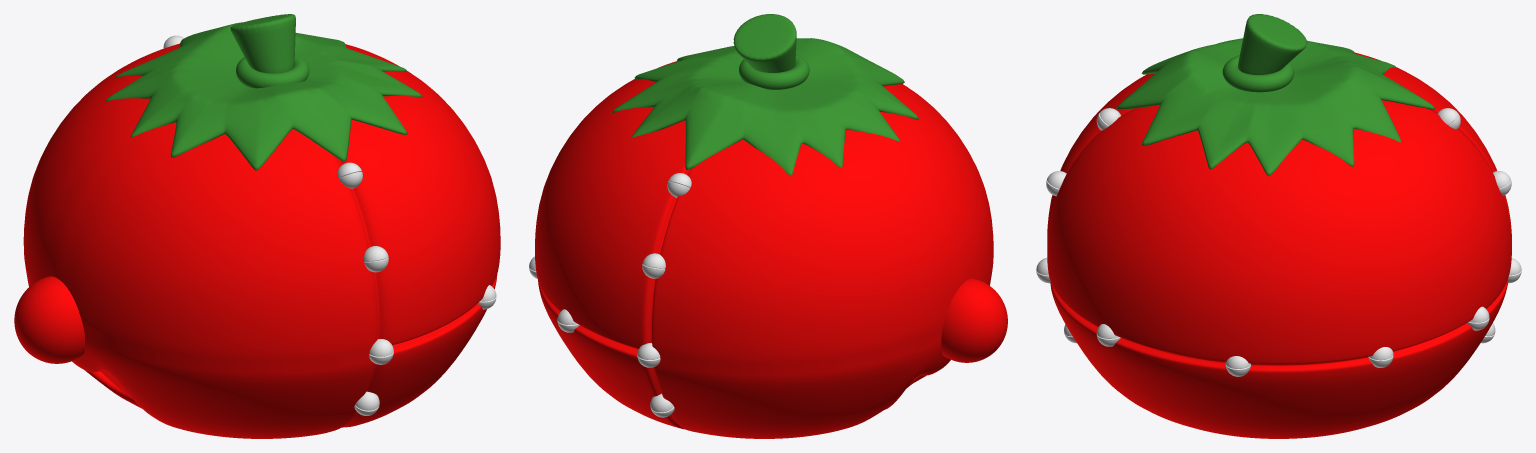
The model's file is mysterypoints.gltf.
3 views of the same model, side by side, from view 1: azimuth 30°, elevation 25°; view 2: azimuth 150°, elevation 25°; view 3: azimuth 270°, elevation 25° (orthographic). The views are drawn at different scales.
Visible parts, largest first — view 1: Circle_012; view 2: Circle_012; view 3: Circle_012.
Boxes of the visible parts, x1,y1,x2,y2 form: Circle_012: (14, 14, 500, 438); Circle_012: (529, 14, 1007, 438); Circle_012: (1036, 14, 1521, 438).
Size of the model in its own units: 7.31 by 6.03 by 6.93.
